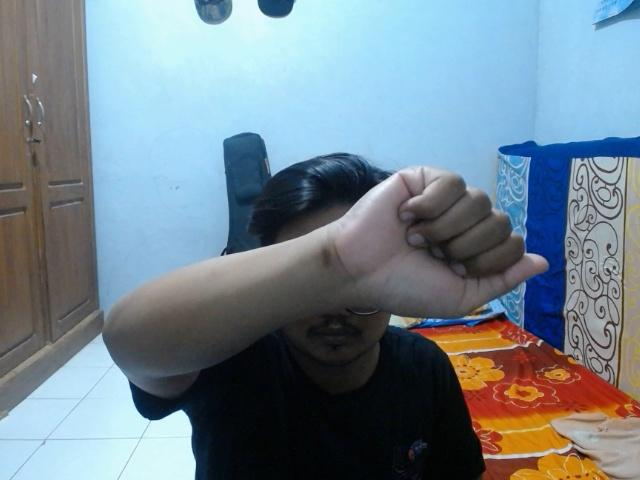Grab: (318, 160, 556, 322)
